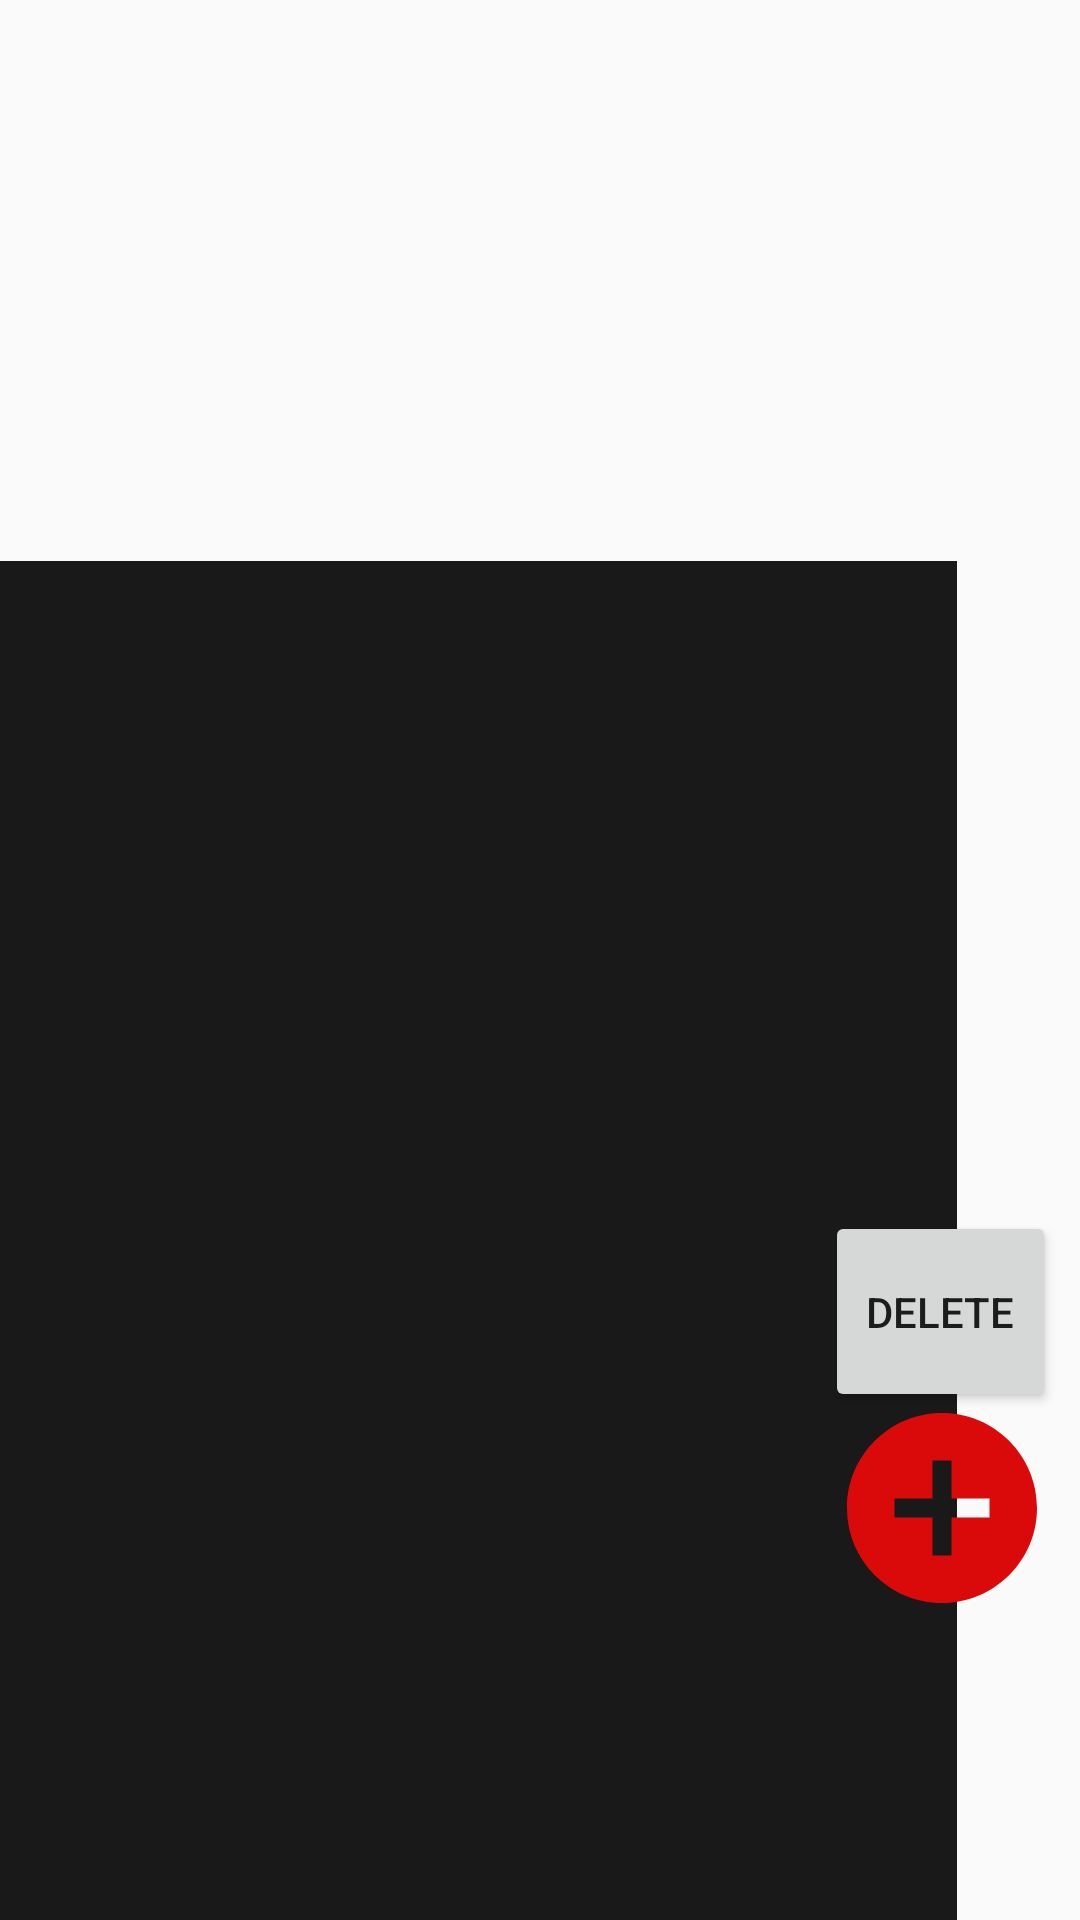

Icons on this 1080w x 1920h Android screen, each with the point to tap as point (x, y):
add circle: point (942, 1508)
